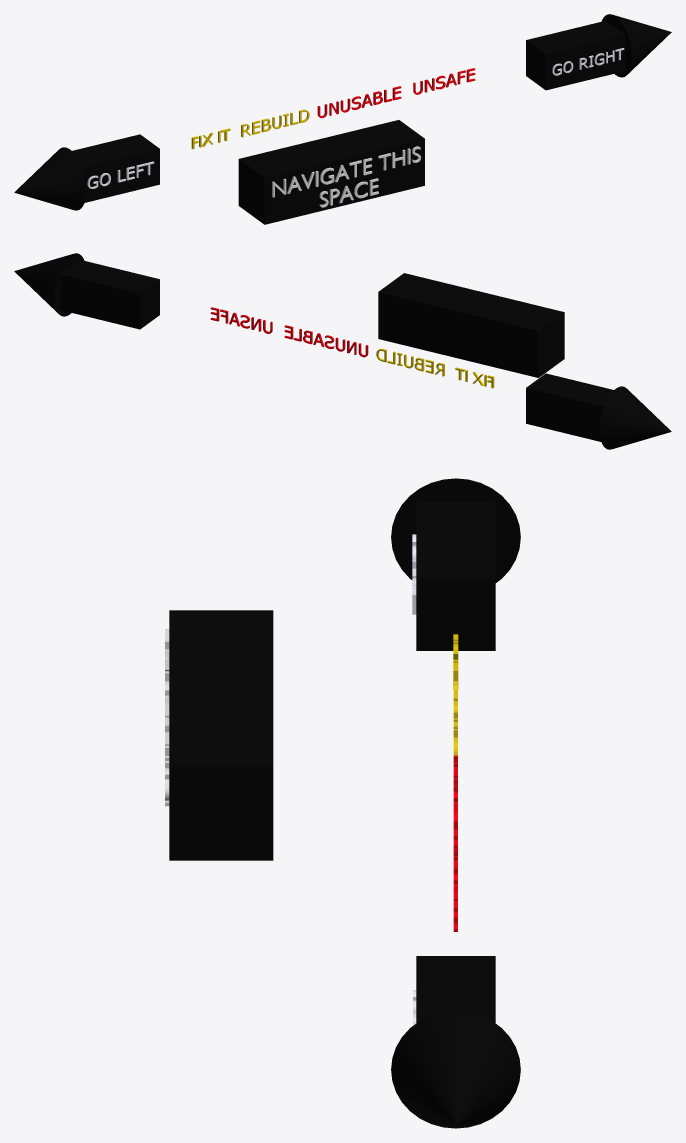
Rendered from instructions.fbx.
3 views of the same model, one above another, from view 1: azimuth 30°, elevation 25°; view 2: azimuth 150°, elevation 25°; view 3: azimuth 270°, elevation 25° (orthographic). The views are drawn at different scales.
Visible parts, largest first — view 1: Cube.001, Cube, Text.005, Text.002, Text.001, Text.003; view 2: Cube.001, Cube, Text.005, Text.002, Text.001, Text.003; view 3: Cube.001, Text.005, Cube.
Boxes of the visible parts, box(x1,y1,x2,y2) form: Cube.001: box(238, 120, 424, 224); Cube: box(14, 134, 159, 210); Text.005: box(526, 14, 671, 90); Text.002: box(317, 86, 401, 118); Text.001: box(241, 109, 309, 137); Text.003: box(413, 68, 475, 94); Cube.001: box(378, 273, 564, 377); Cube: box(526, 373, 671, 449); Text.005: box(14, 253, 159, 329); Text.002: box(284, 325, 368, 357); Text.001: box(376, 348, 444, 376); Text.003: box(210, 307, 272, 333); Cube.001: box(165, 610, 273, 860); Text.005: box(391, 956, 520, 1128); Cube: box(391, 478, 520, 650).
Size of the model in its own units: 3124 by 267 by 731.
